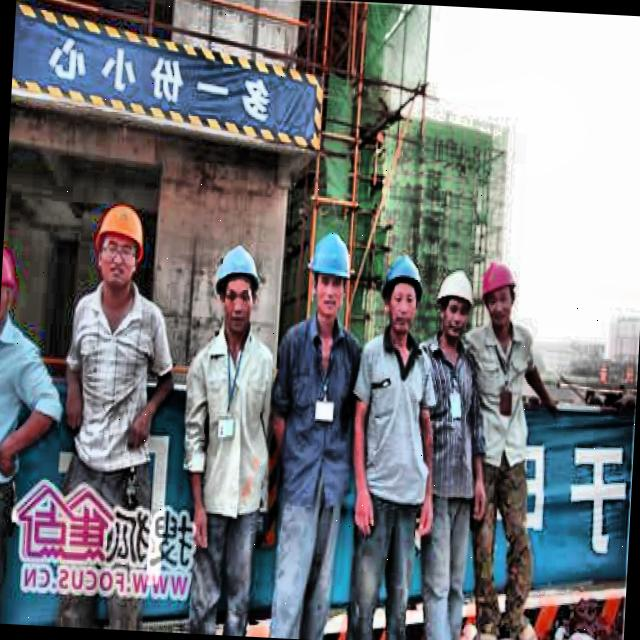helmet: (88, 194, 151, 300), (208, 234, 266, 344), (306, 222, 354, 330), (380, 245, 428, 338), (476, 254, 522, 334), (436, 268, 476, 340)
